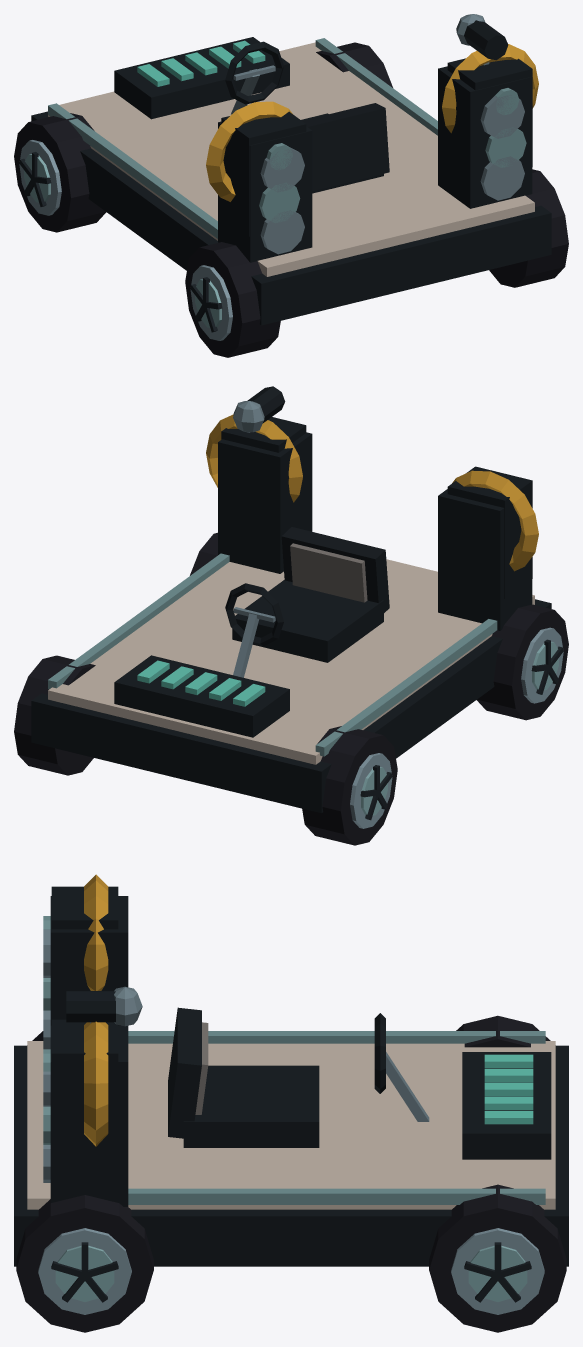
The model's file is kart.glb.
3 views of the same model, one above another, from view 1: azimuth 30°, elevation 25°; view 2: azimuth 150°, elevation 25°; view 3: azimuth 270°, elevation 25° (orthographic). The views are drawn at different scales.
Parts seen in each view (by area): view 1: identity-stage-stage-platform-and-pa-towers, identity-stage-motif-speakers, identity-stage-driver-cockpit, wheel-front-left, wheel-rear-left, identity-stage-motif-ring, wheel-rear-right, identity-stage-motif-microphone, wheel-front-right; view 2: identity-stage-stage-platform-and-pa-towers, identity-stage-driver-cockpit, wheel-front-left, wheel-rear-left, identity-stage-motif-speakers, identity-stage-motif-ring, wheel-front-right, identity-stage-motif-microphone; view 3: identity-stage-stage-platform-and-pa-towers, identity-stage-driver-cockpit, wheel-front-right, wheel-rear-right, identity-stage-motif-speakers, identity-stage-motif-ring, identity-stage-motif-microphone, wheel-front-left.
Part boxes in pixels (<box>): identity-stage-stage-platform-and-pa-towers: <box>31,37,551,325</box>; identity-stage-motif-speakers: <box>221,58,532,236</box>; identity-stage-driver-cockpit: <box>225,41,389,193</box>; wheel-front-left: <box>14,113,106,232</box>; wheel-rear-left: <box>185,242,280,357</box>; identity-stage-motif-ring: <box>206,44,538,201</box>; wheel-rear-right: <box>489,169,568,287</box>; identity-stage-motif-microphone: <box>456,14,508,65</box>; wheel-front-right: <box>316,42,392,87</box>; identity-stage-stage-platform-and-pa-towers: <box>31,432,551,813</box>; identity-stage-driver-cockpit: <box>225,527,389,677</box>; wheel-front-left: <box>302,726,397,845</box>; wheel-rear-left: <box>477,604,568,720</box>; identity-stage-motif-speakers: <box>221,417,532,598</box>; identity-stage-motif-ring: <box>206,414,538,571</box>; wheel-front-right: <box>14,655,95,775</box>; identity-stage-motif-microphone: <box>233,386,285,432</box>; identity-stage-stage-platform-and-pa-towers: <box>14,896,568,1266</box>; identity-stage-driver-cockpit: <box>168,1007,429,1147</box>; wheel-front-right: <box>429,1184,566,1332</box>; wheel-rear-right: <box>16,1195,153,1332</box>; identity-stage-motif-speakers: <box>43,886,118,1172</box>; identity-stage-motif-ring: <box>84,874,108,1146</box>; identity-stage-motif-microphone: <box>66,986,142,1026</box>; wheel-front-left: <box>456,1015,550,1047</box>.
Size of the model in its own units: 2.16 by 1.57 by 2.5.
